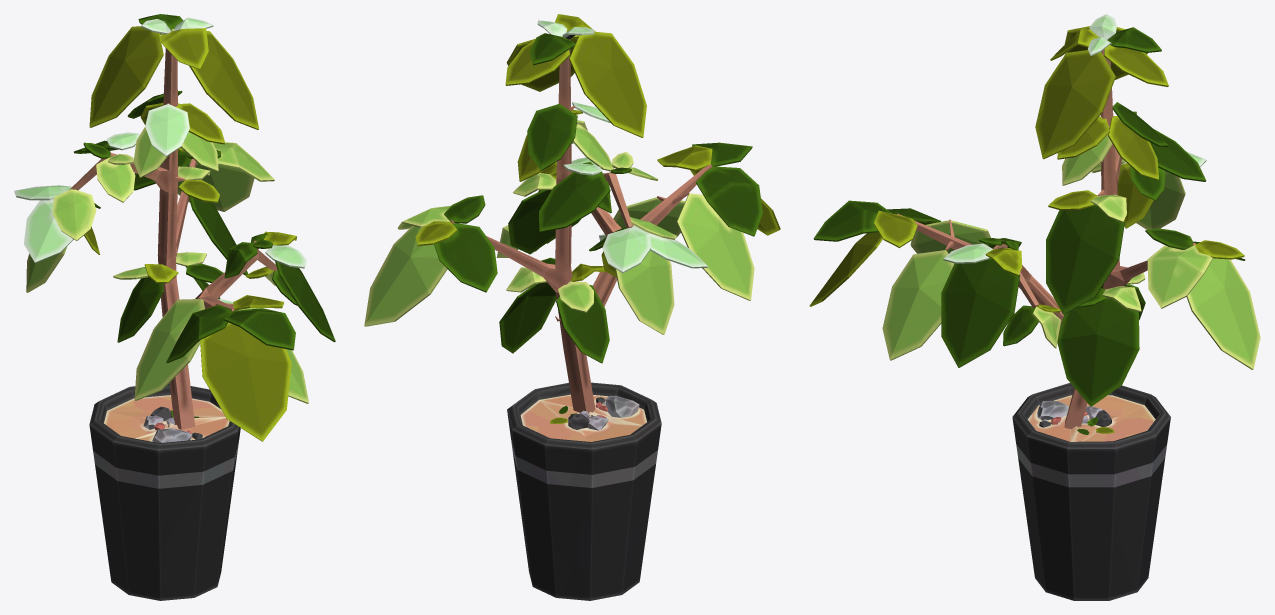
The model's file is Plant_Pot_2.fbx.
3 renders of one model, left to right at view 1: azimuth 30°, elevation 25°; view 2: azimuth 150°, elevation 25°; view 3: azimuth 270°, elevation 25°, orthographic.
Parts seen in each view (by area): view 1: Vase; view 2: Vase; view 3: Vase.
Part boxes in pixels (left/top/right/bottom): Vase: left=14, top=14, right=335, bottom=600; Vase: left=364, top=14, right=780, bottom=600; Vase: left=809, top=14, right=1260, bottom=600.
Bounding box in the file's own units: 107 × 204 × 150.
Materials: 1 (1 with a texture image).
